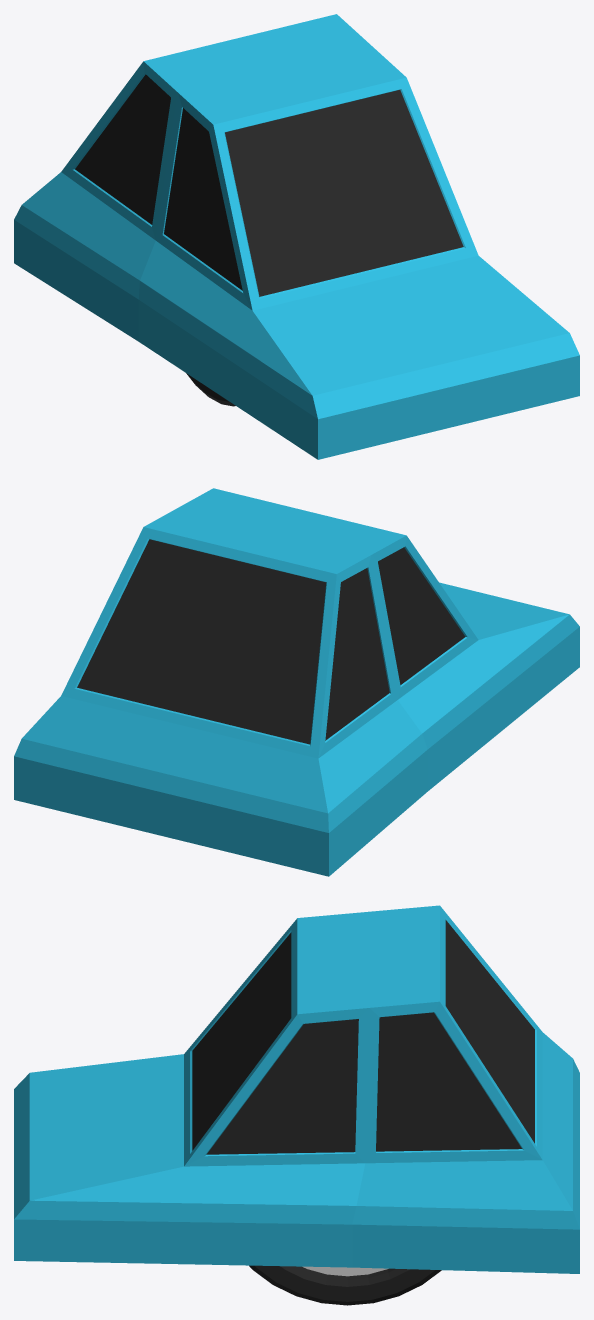
Rendered from car_blue.glb.
3 views of the same model, one above another, from view 1: azimuth 30°, elevation 25°; view 2: azimuth 150°, elevation 25°; view 3: azimuth 270°, elevation 25° (orthographic).
Parts seen in each view (by area): view 1: Cube; view 2: Cube; view 3: Cube, Cylinder.
Boxes of the visible parts, x1=… form: Cube: x1=14, y1=14, x2=579, y2=459; Cube: x1=14, y1=488, x2=579, y2=876; Cube: x1=14, y1=905, x2=579, y2=1273; Cylinder: x1=249, y1=1265, x2=441, y2=1305.
Size of the model in its own units: 1.67 by 1.56 by 2.55.
